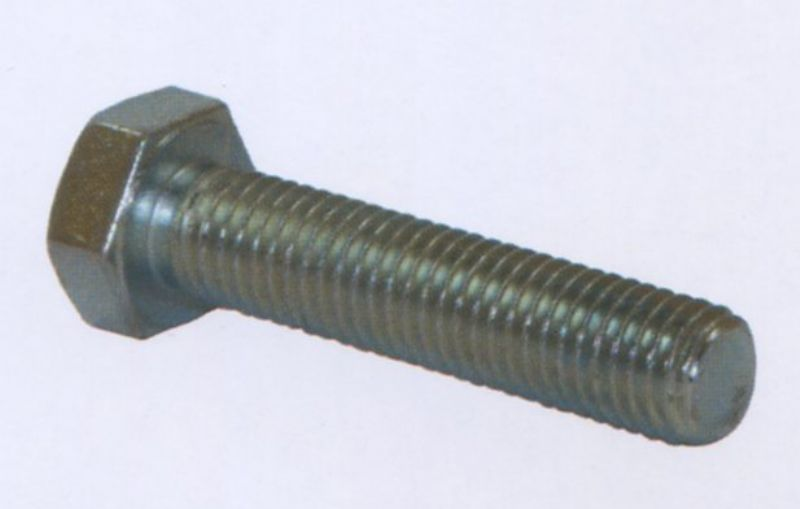screw: (45, 85, 754, 444)
